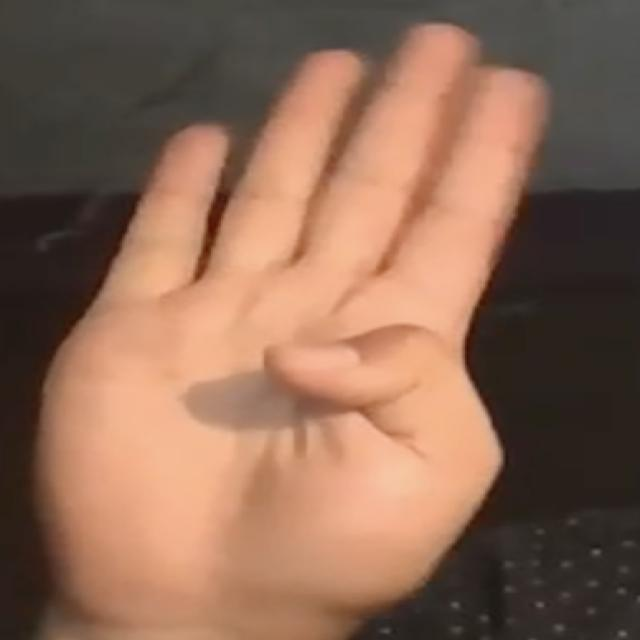B: (28, 18, 559, 606)
